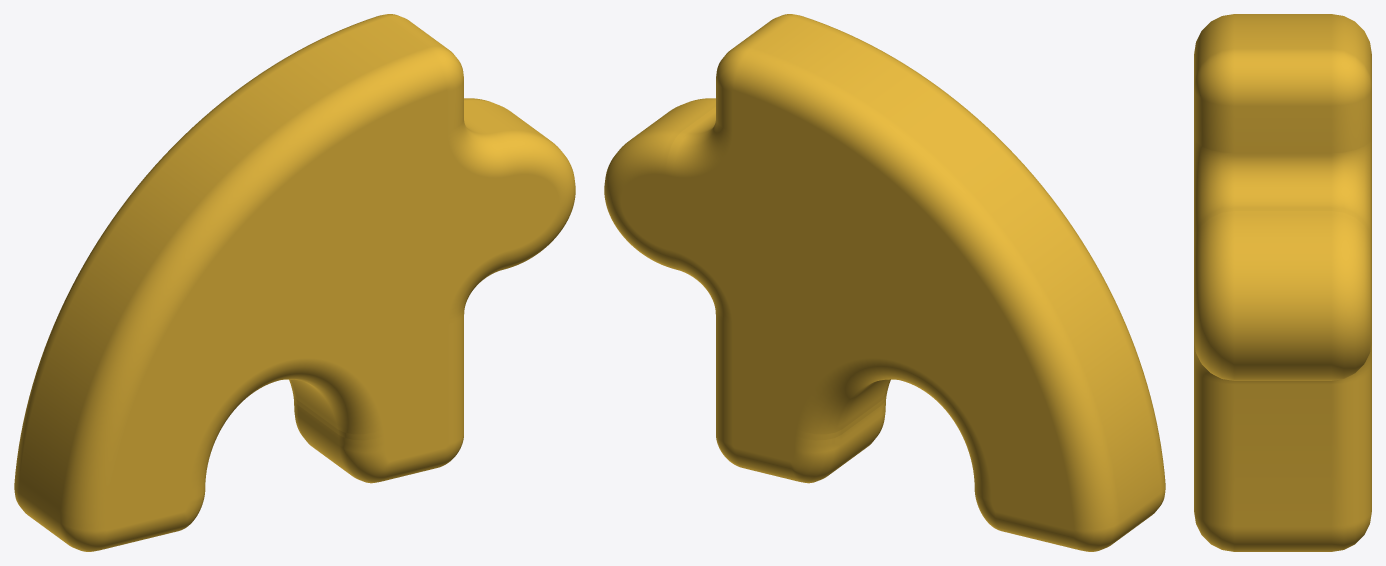
File: orange-puzzle.glb
The picture shows the model from 3 angles, left to right: view 1: azimuth 30°, elevation 25°; view 2: azimuth 150°, elevation 25°; view 3: azimuth 270°, elevation 25°; orthographic projection. The views are drawn at different scales.
Parts seen in each view (by area): view 1: Shape 0.009; view 2: Shape 0.009; view 3: Shape 0.009.
Boxes of the visible parts, bbox=[...] form: Shape 0.009: bbox=[14, 14, 575, 551]; Shape 0.009: bbox=[604, 14, 1165, 551]; Shape 0.009: bbox=[1194, 14, 1371, 551].
Bounding box in the file's own units: 2.2 × 1.72 × 0.5556.
